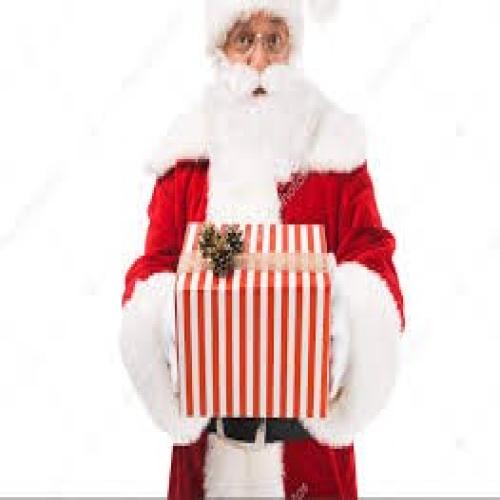Santa: (122, 0, 403, 500)
